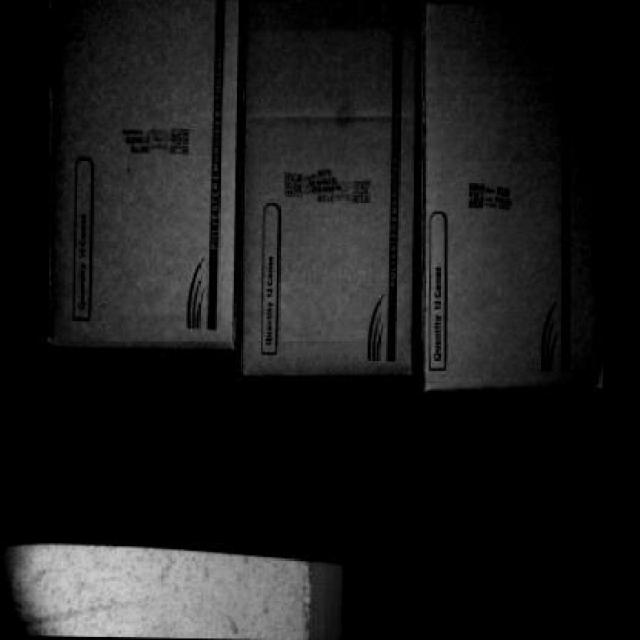cardboxes: (420, 6, 618, 391), (236, 3, 422, 385), (42, 0, 242, 343)
